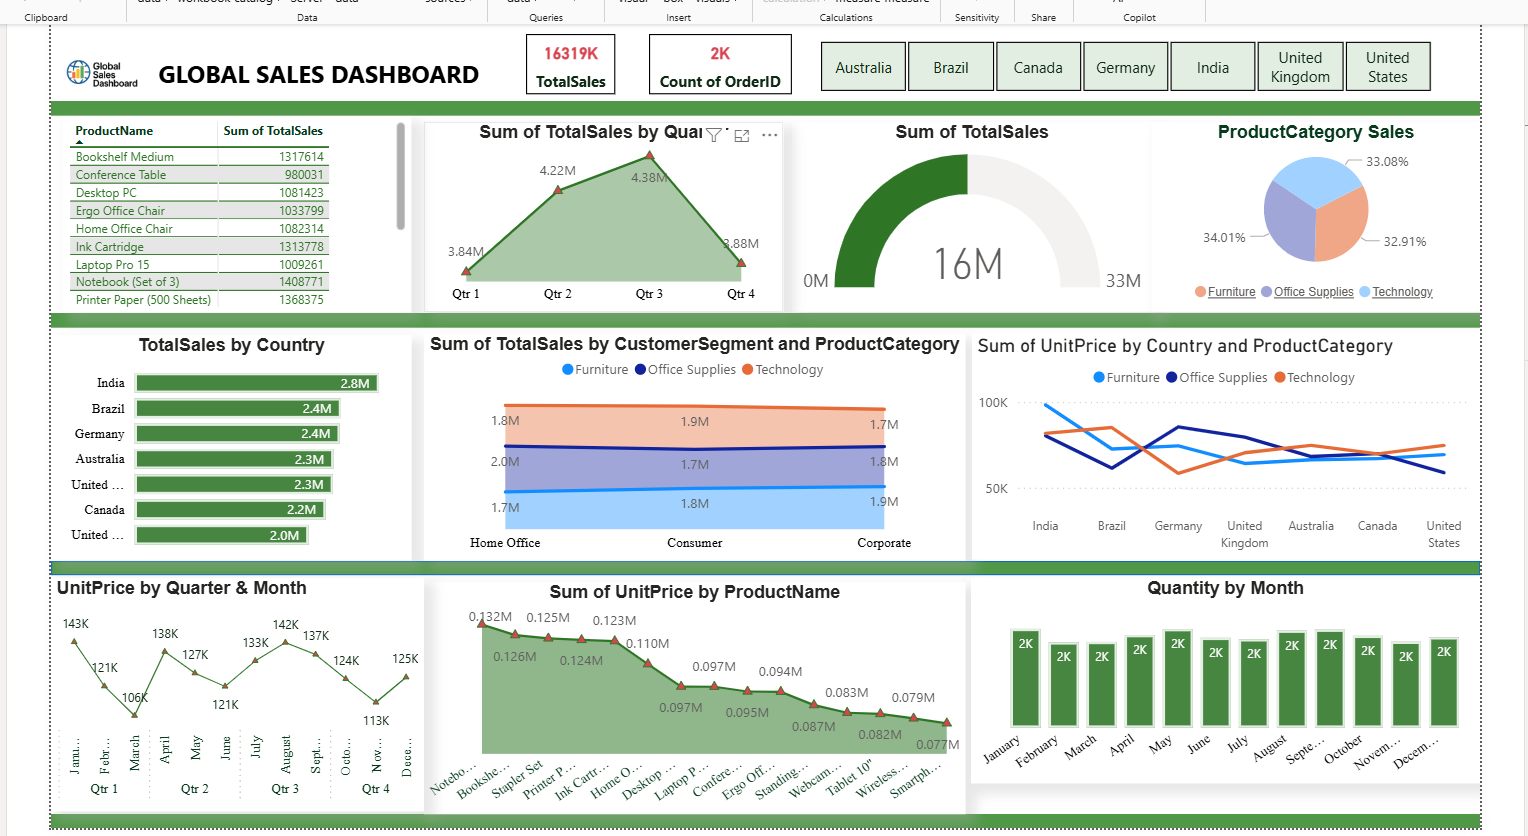

The dashboard page shown, as its layout file describes it:
{"tool":"powerbi","page":{"name":"Page 1","canvas":[1280,720],"ordinal":0},"visuals":[{"type":"textbox","box":[0,164.4,403.6,149.8],"z":0},{"type":"shape","box":[0,69.1,1280,12.6],"z":1000},{"type":"shape","box":[0,480.5,1280,12.6],"z":2000},{"type":"shape","box":[0,258.7,1280,12.6],"z":3000},{"type":"shape","box":[0,707.1,1280,12.6],"z":4000},{"type":"textbox","box":[0,324,404,150],"z":5000},{"type":"textbox","box":[91.3,25.4,371.8,38],"z":6000},{"type":"image","box":[0,0,91.3,88.7],"z":7000},{"type":"barChart","title":"TotalSales by Country","fields":{"Category":["SALES_DATA.Country"],"Y":["Sum(SALES_DATA.TotalSales)"]},"box":[0,278.2,322.9,202.3],"z":8000},{"type":"gauge","fields":{"Y":["Sum(SALES_DATA.TotalSales)"]},"box":[663.4,87.9,322.8,169.9],"z":9000},{"type":"lineChart","fields":{"Category":["SALES_DATA.OrderDate.Variation.Date Hierarchy.Quarter"],"Y":["Sum(SALES_DATA.TotalSales)"]},"box":[333.8,87.9,322,169.9],"z":10000},{"type":"tableEx","fields":{"Values":["SALES_DATA.ProductName","Sum(SALES_DATA.TotalSales)"]},"box":[11,82,311.8,175.8],"z":11000},{"type":"stackedAreaChart","fields":{"Category":["SALES_DATA.CustomerSegment"],"Y":["Sum(SALES_DATA.TotalSales)"],"Series":["SALES_DATA.ProductCategory"]},"box":[333.8,278,485.1,202.8],"z":12000},{"type":"areaChart","fields":{"Category":["SALES_DATA.ProductName"],"Y":["Sum(SALES_DATA.UnitPrice)"]},"box":[333.8,499.4,485.1,207.9],"z":13000},{"type":"columnChart","title":"Quantity by Month","fields":{"Category":["SALES_DATA.OrderDate.Variation.Date Hierarchy.Month"],"Y":["Sum(SALES_DATA.Quantity)"]},"box":[824,496,456,184],"z":14000},{"type":"pieChart","title":"ProductCategory Sales","fields":{"Series":["SALES_DATA.ProductCategory"],"Y":["Sum(SALES_DATA.TotalSales)"]},"box":[986,88,294,170],"z":15000},{"type":"lineChart","fields":{"Category":["SALES_DATA.Country"],"Series":["SALES_DATA.ProductCategory"],"Y":["Sum(SALES_DATA.UnitPrice)"]},"box":[824.8,278,455.5,202],"z":16000},{"type":"areaChart","title":" UnitPrice by Quarter & Month","fields":{"Category":["SALES_DATA.OrderDate.Variation.Date Hierarchy.Quarter","SALES_DATA.OrderDate.Variation.Date Hierarchy.Month"],"Y":["Sum(SALES_DATA.UnitPrice)"]},"box":[0,496.1,333.8,208.7],"z":17000},{"type":"card","fields":{"Values":["Sum(SALES_DATA.TotalSales)"]},"box":[425.1,9.3,80.3,54.1],"z":18000},{"type":"card","fields":{"Values":["CountNonNull(SALES_DATA.OrderID)"]},"box":[535.8,9.3,127.6,54.1],"z":19000},{"type":"slicer","fields":{"Values":["SALES_DATA.Country"]},"box":[663.4,9.3,595.8,54.1],"z":20000}]}

Visuals, with their boxes in screenshot pixels (x1, y1, x2, y2):
textbox: [left=44, top=209, right=489, bottom=375]
shape: [left=44, top=104, right=1457, bottom=118]
shape: [left=44, top=558, right=1457, bottom=572]
shape: [left=44, top=313, right=1457, bottom=327]
shape: [left=44, top=808, right=1457, bottom=822]
textbox: [left=44, top=386, right=490, bottom=551]
textbox: [left=145, top=56, right=555, bottom=98]
image: [left=44, top=28, right=145, bottom=126]
"TotalSales by Country" barChart: [left=44, top=335, right=400, bottom=558]
gauge - Sum(SALES_DATA.TotalSales): [left=776, top=125, right=1133, bottom=312]
lineChart - SALES_DATA.OrderDate.Variation.Date Hierarchy.Quarter x Sum(SALES_DATA.TotalSales): [left=412, top=125, right=768, bottom=312]
tableEx - SALES_DATA.ProductName x Sum(SALES_DATA.TotalSales): [left=56, top=118, right=400, bottom=312]
stackedAreaChart - SALES_DATA.CustomerSegment x Sum(SALES_DATA.TotalSales): [left=412, top=335, right=948, bottom=559]
areaChart - SALES_DATA.ProductName x Sum(SALES_DATA.UnitPrice): [left=412, top=579, right=948, bottom=809]
"Quantity by Month" columnChart: [left=953, top=575, right=1457, bottom=779]
"ProductCategory Sales" pieChart: [left=1132, top=125, right=1457, bottom=313]
lineChart - SALES_DATA.Country x SALES_DATA.ProductCategory: [left=954, top=335, right=1457, bottom=558]
" UnitPrice by Quarter & Month" areaChart: [left=44, top=576, right=412, bottom=806]
card - Sum(SALES_DATA.TotalSales): [left=513, top=38, right=602, bottom=98]
card - CountNonNull(SALES_DATA.OrderID): [left=635, top=38, right=776, bottom=98]
slicer - SALES_DATA.Country: [left=776, top=38, right=1434, bottom=98]
